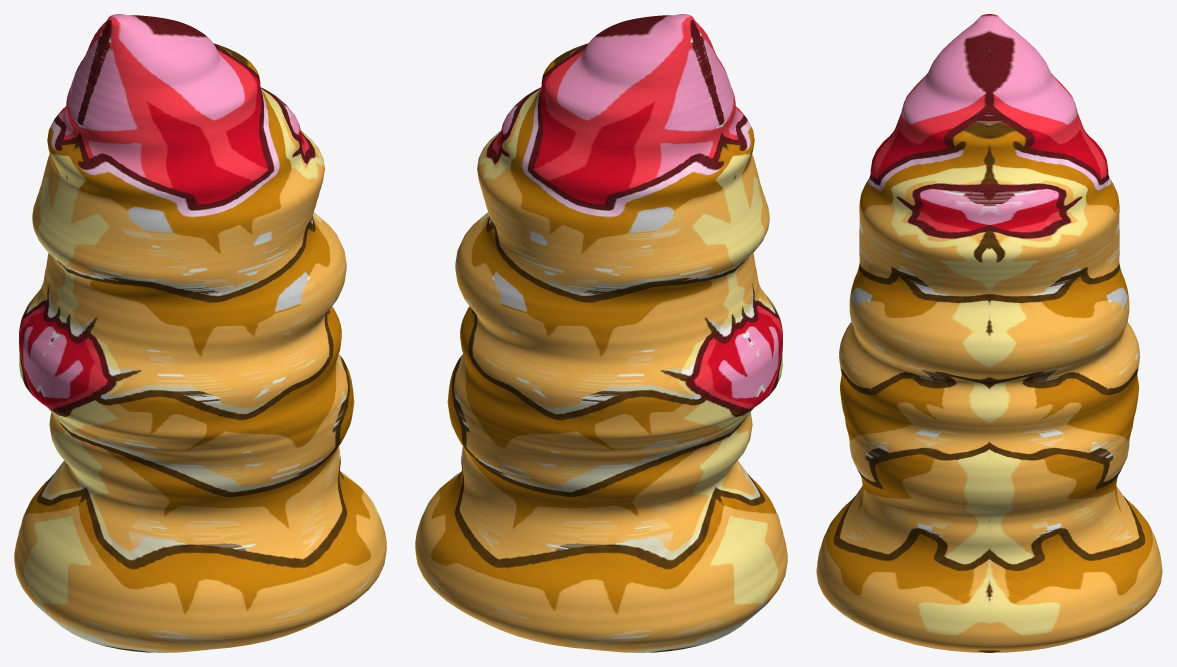
Rendered from amber_cairn.glb.
The picture shows the model from 3 angles, left to right: view 1: azimuth 30°, elevation 25°; view 2: azimuth 150°, elevation 25°; view 3: azimuth 270°, elevation 25°; orthographic projection. The views are drawn at different scales.
Visible parts, largest first — view 1: amber_cairn; view 2: amber_cairn; view 3: amber_cairn.
Boxes of the visible parts, x1=… form: amber_cairn: x1=14, y1=14, x2=386, y2=652; amber_cairn: x1=415, y1=14, x2=787, y2=652; amber_cairn: x1=816, y1=14, x2=1162, y2=652.
Bounding box in the file's own units: 0.9918 × 1.81 × 0.9882.
Materials: 1 (1 with a texture image).
